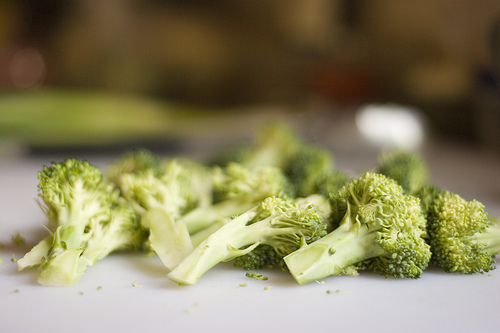broccoli: (34, 156, 149, 289)
